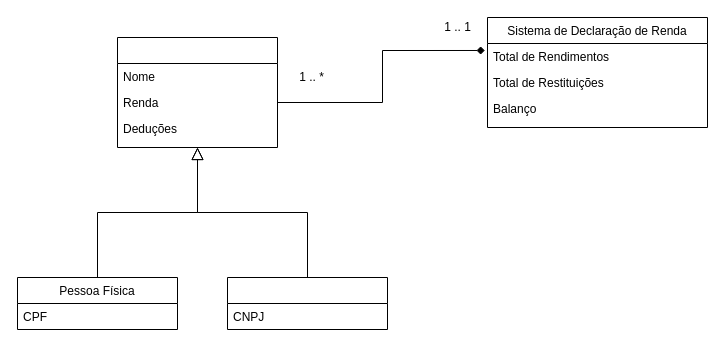
Some shapes in this 725 by 350 pixel diagram are drawn without their labels. Here are the shapes that lost their labels. From the top down, the box of each, then its label:
(116, 36, 278, 148): Contribuinte
(226, 276, 388, 330): Pessoa Jurídica
